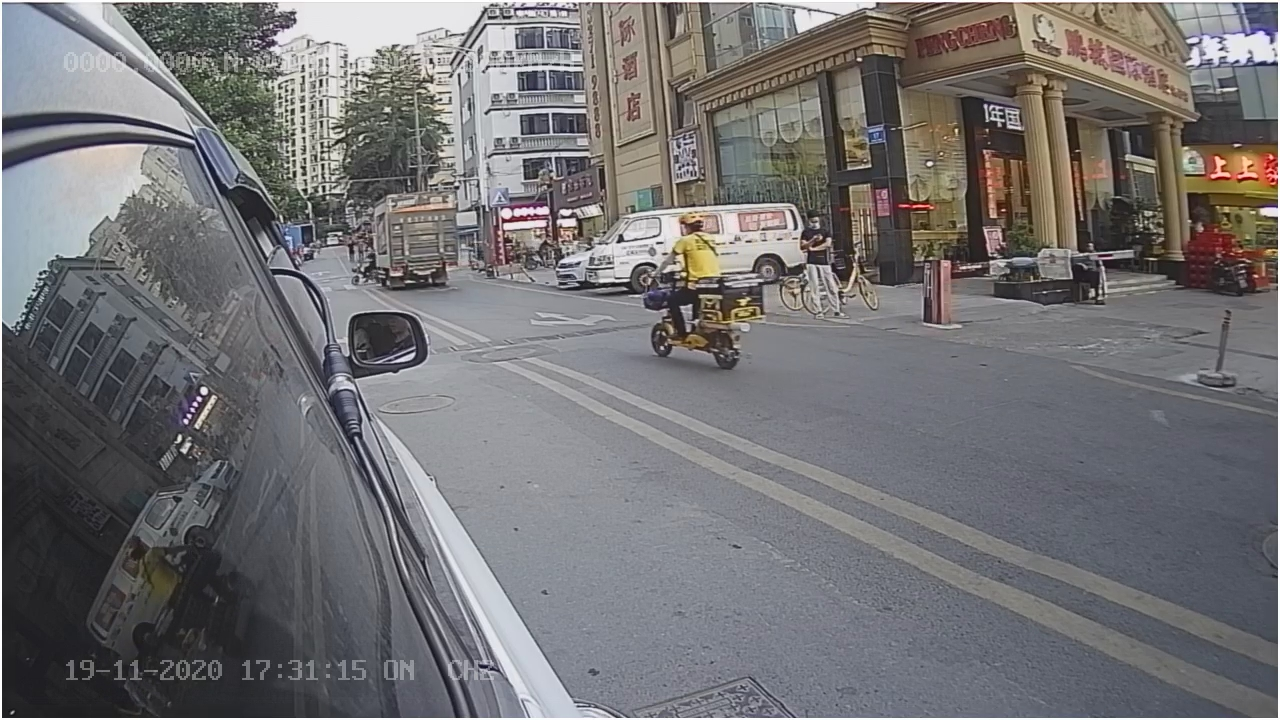person: (661, 210, 728, 280)
